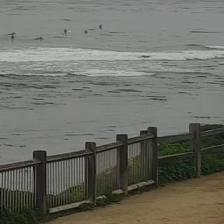surfer: (34, 36, 44, 40), (10, 34, 15, 40), (64, 28, 67, 34), (8, 32, 16, 34), (99, 24, 102, 29), (85, 30, 88, 34)
